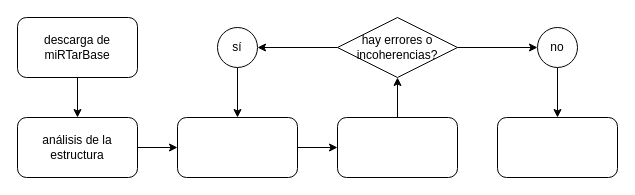
Some shapes in this 635 by 195 pixel diagram are drawn without their labels. The shapes that lost their labels are listed below. From the top down, each one's centre as x and y in pixels, then its label:
At point 237,147: "diseño de estrutura nueva".
At point 397,147: "conversión de los datos".
At point 557,147: "importación a MongoDB".
